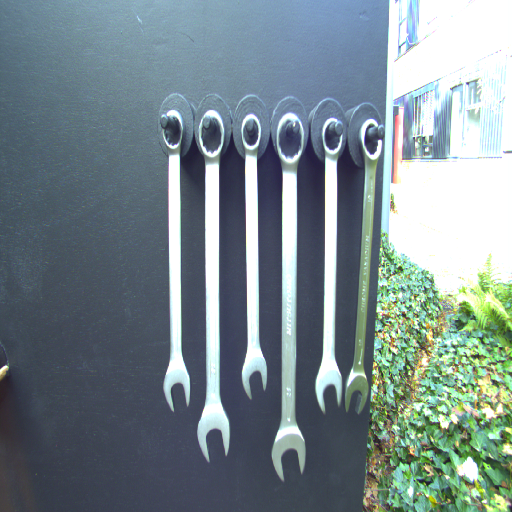bottom: (195, 404, 234, 465), (268, 426, 309, 483), (162, 358, 193, 412), (239, 348, 269, 401), (314, 363, 343, 415), (343, 366, 372, 416)
top: (273, 113, 307, 171), (196, 107, 224, 162), (356, 114, 385, 162), (157, 107, 187, 153), (319, 114, 344, 161), (240, 109, 262, 151)
